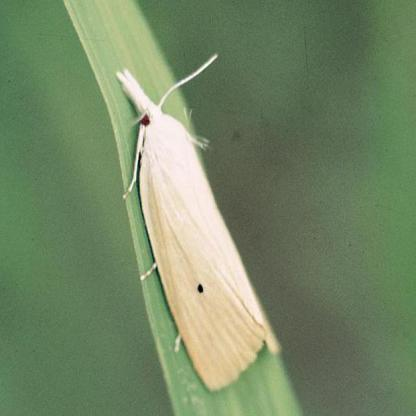stem-borer: (113, 63, 285, 395)
